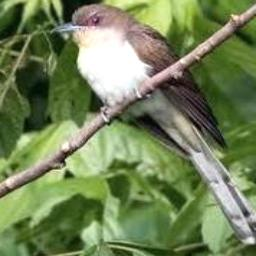Cuckoo: (53, 4, 256, 248)
